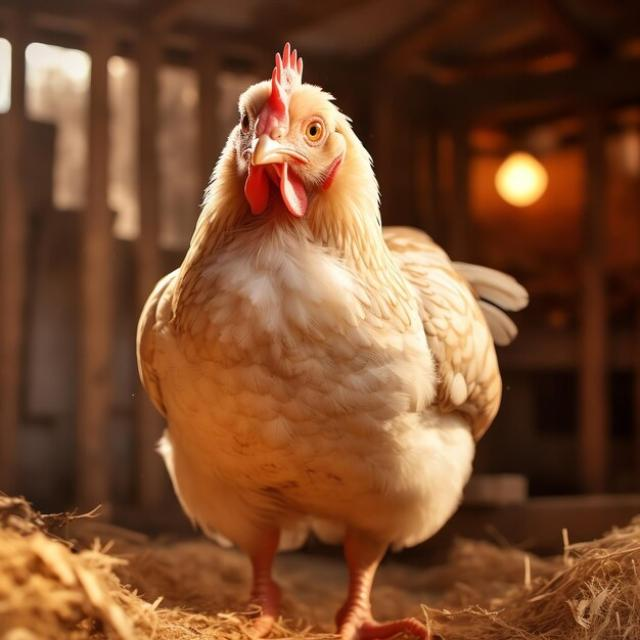Chicken: (134, 40, 531, 640)
